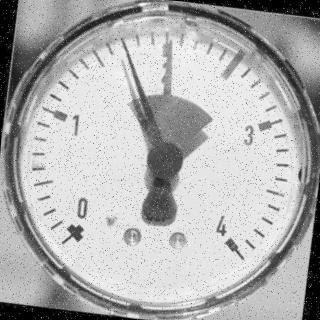gauge: (0, 0, 320, 320), (144, 139, 186, 181), (54, 220, 94, 250), (217, 230, 248, 258), (163, 32, 178, 52), (116, 33, 130, 50)
